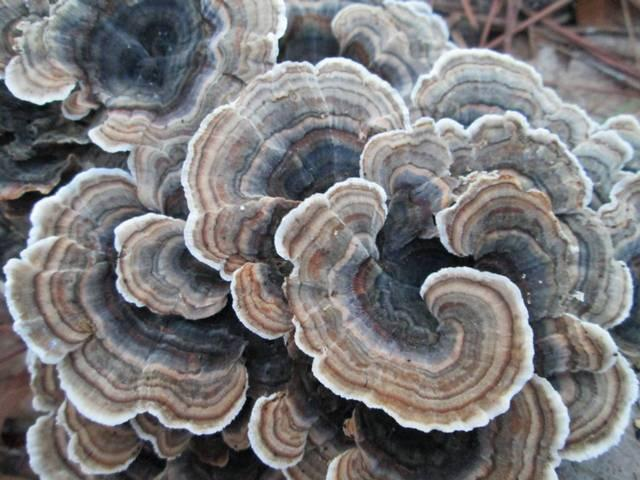poisonous_mushroom: (1, 1, 637, 478), (272, 175, 536, 434)
